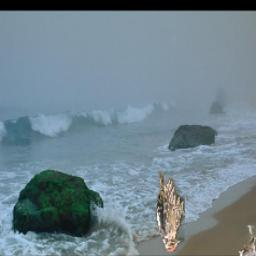Cuckoo: (240, 227, 256, 256)
Woodpecker: (157, 171, 186, 251)
